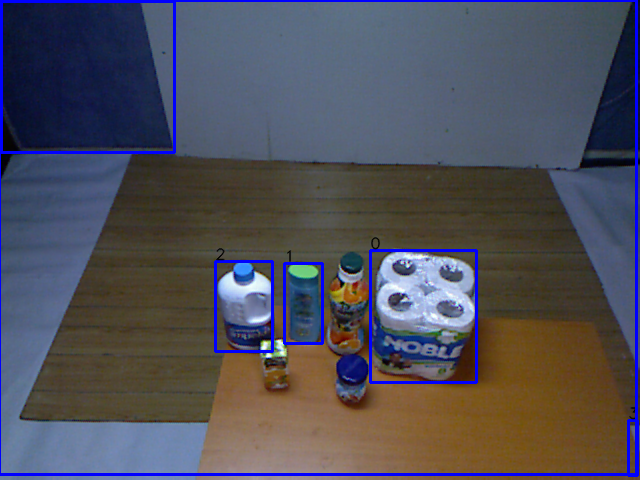balsamo: (281, 258, 324, 350)
cloro: (212, 260, 279, 356)
confort: (367, 245, 477, 384)
crema: (331, 350, 374, 410)
jugoind: (255, 336, 294, 397)
yogurt: (325, 251, 374, 354)
